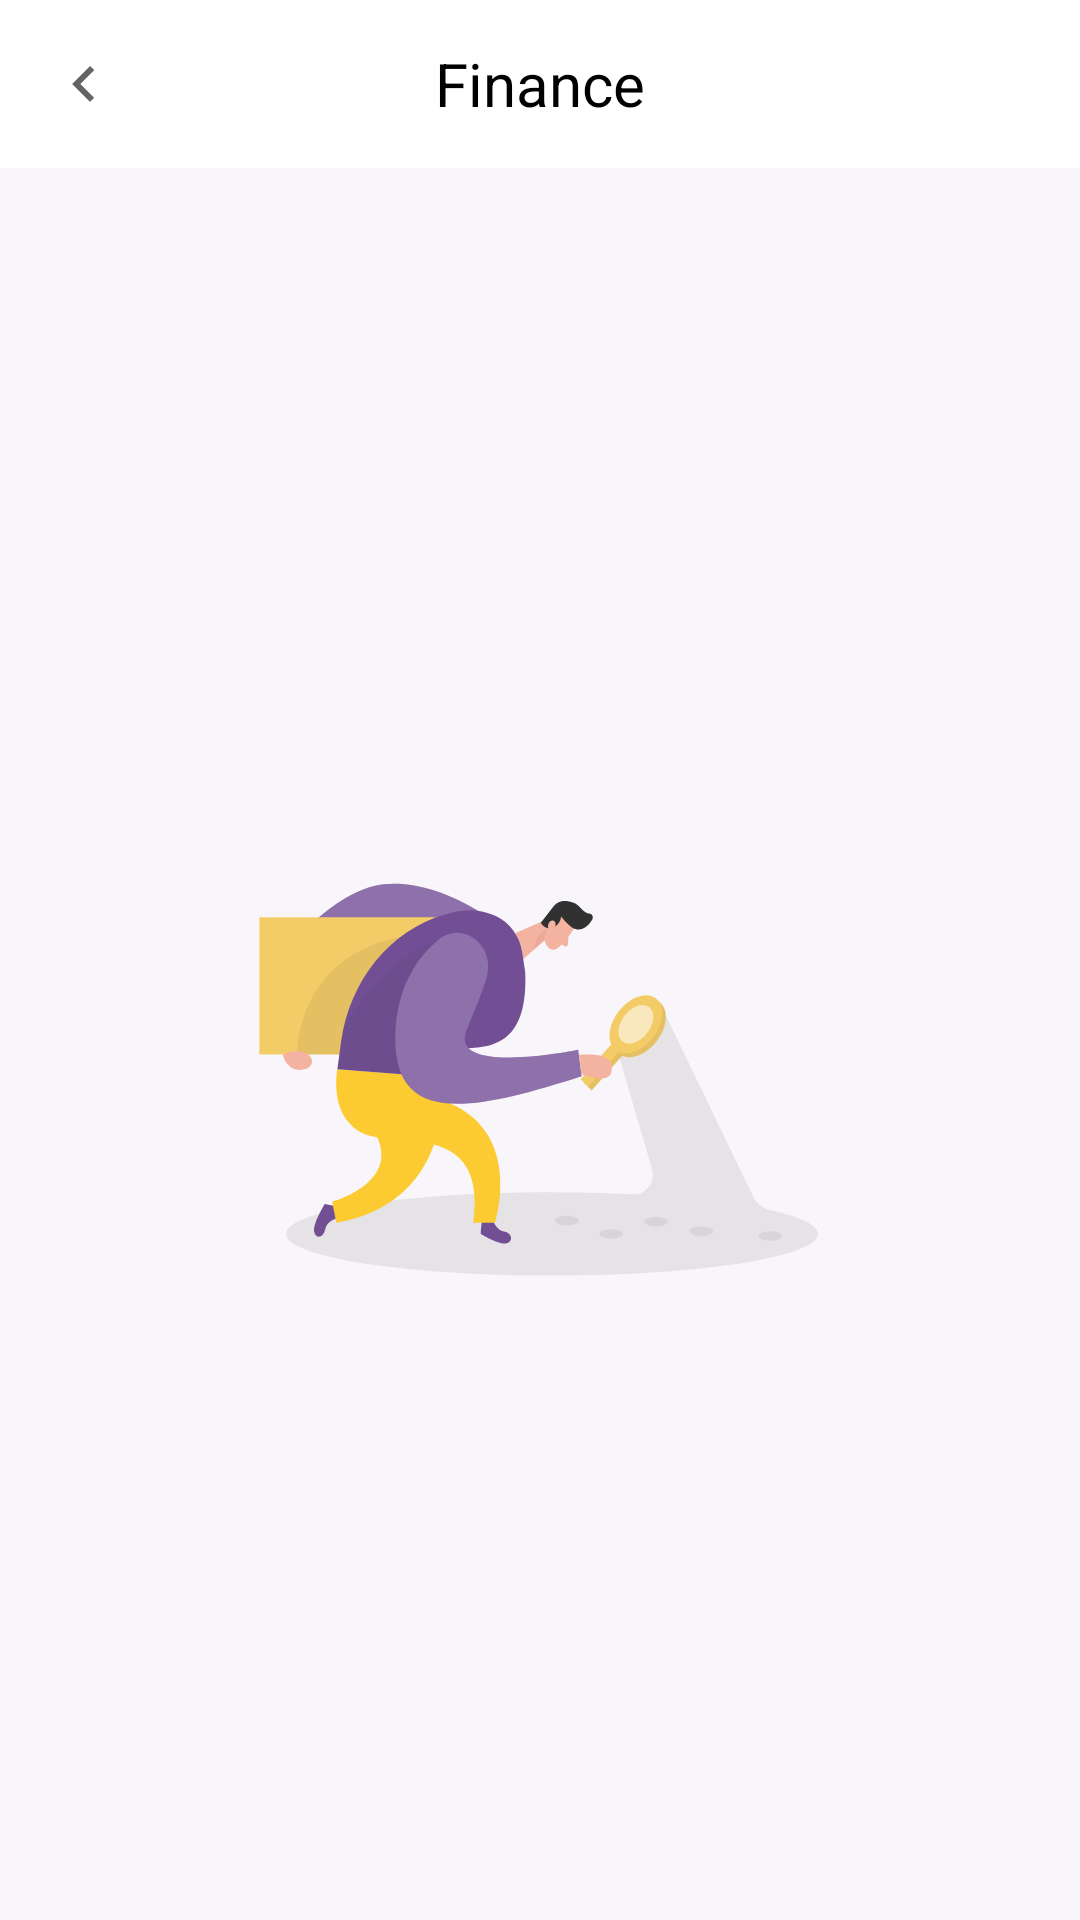

Icon click points for this 1080*1920 phone screenshot, format point (x, y):
left: point (83, 84)
